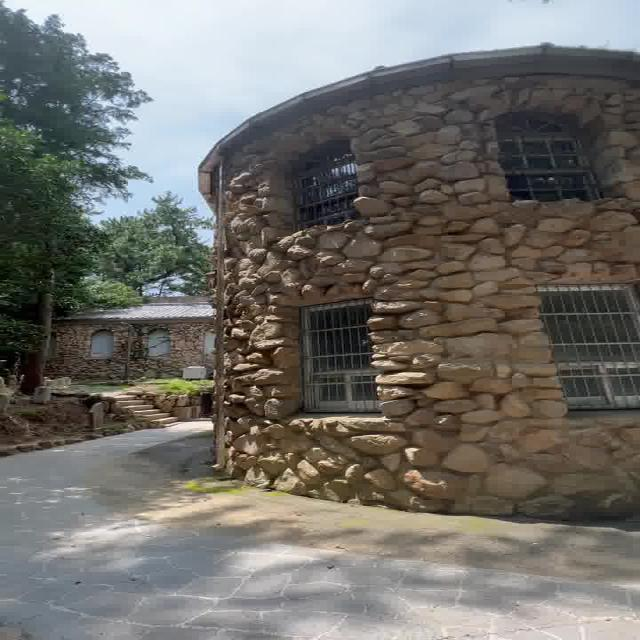building: (190, 44, 640, 501)
